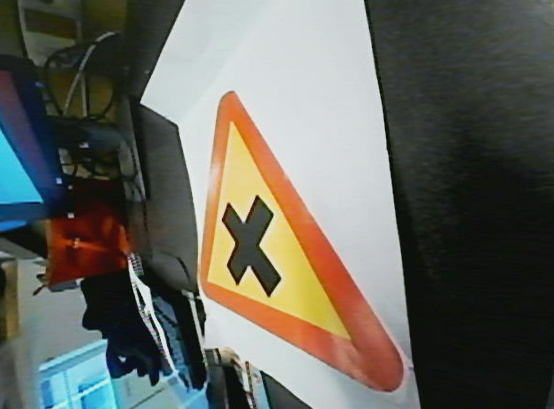junction: (183, 88, 412, 396)
